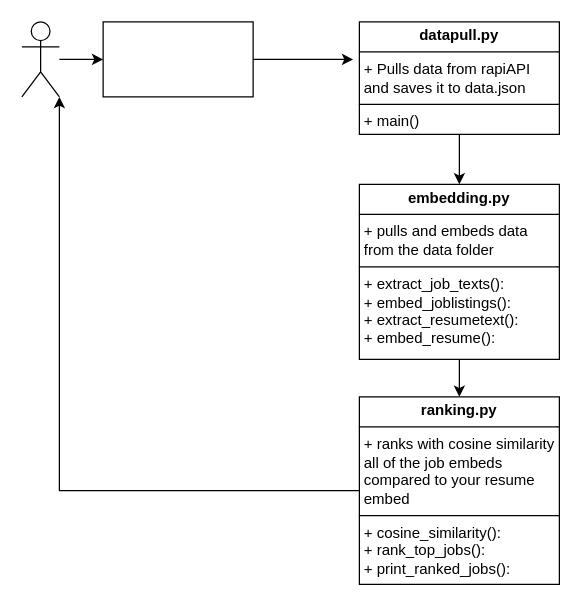
This 581x606 diagram has some shape labels left out. Here are the shapes that lost their labels. From the top down, the centre of each, then its label:
the point at 40,59: User
the point at 177,59: Puts job file in the data folder
